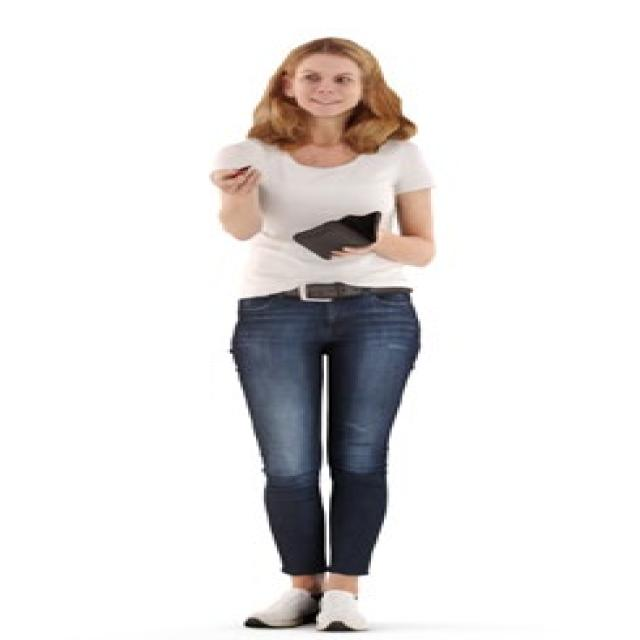standing: (200, 35, 443, 637)
